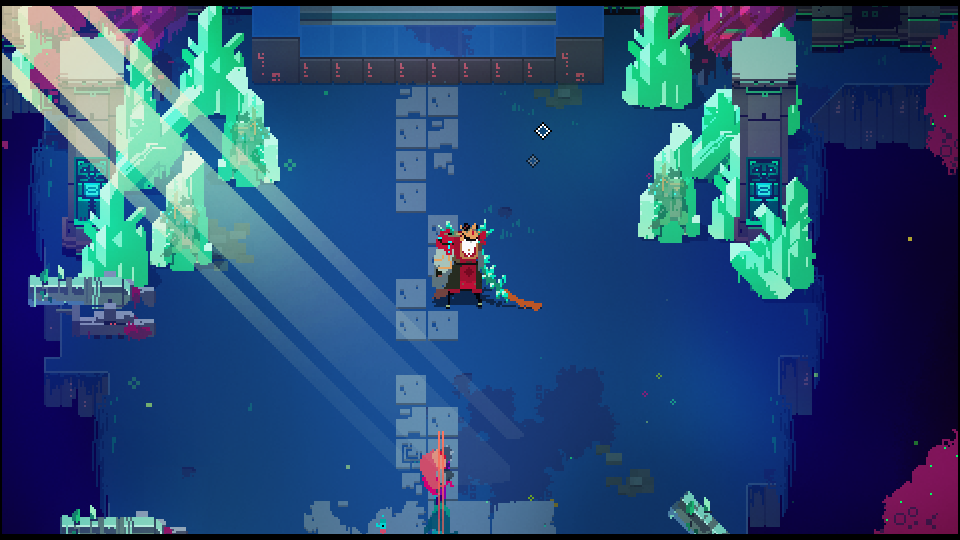hanged_man: (427, 214, 518, 311)
player: (417, 440, 455, 493)
